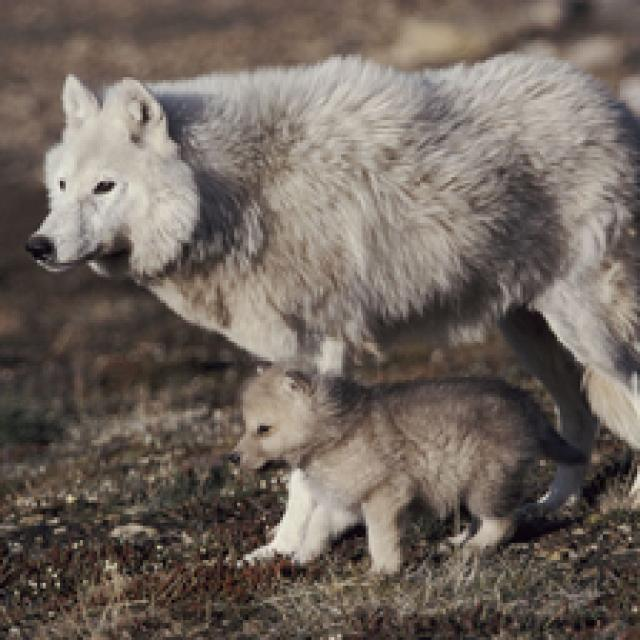wolf: (43, 34, 640, 574), (219, 341, 568, 578)
